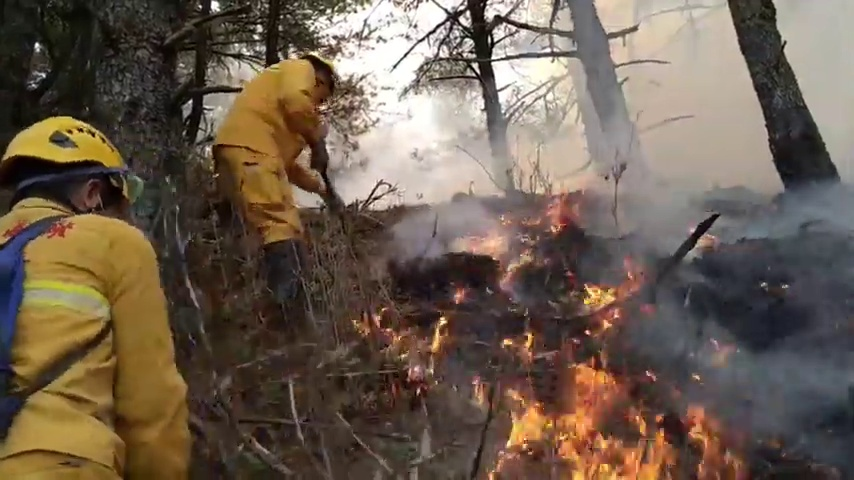fire: (506, 340, 724, 479), (581, 282, 623, 327), (356, 308, 384, 325), (430, 317, 443, 350), (451, 286, 464, 306), (550, 219, 559, 232)
